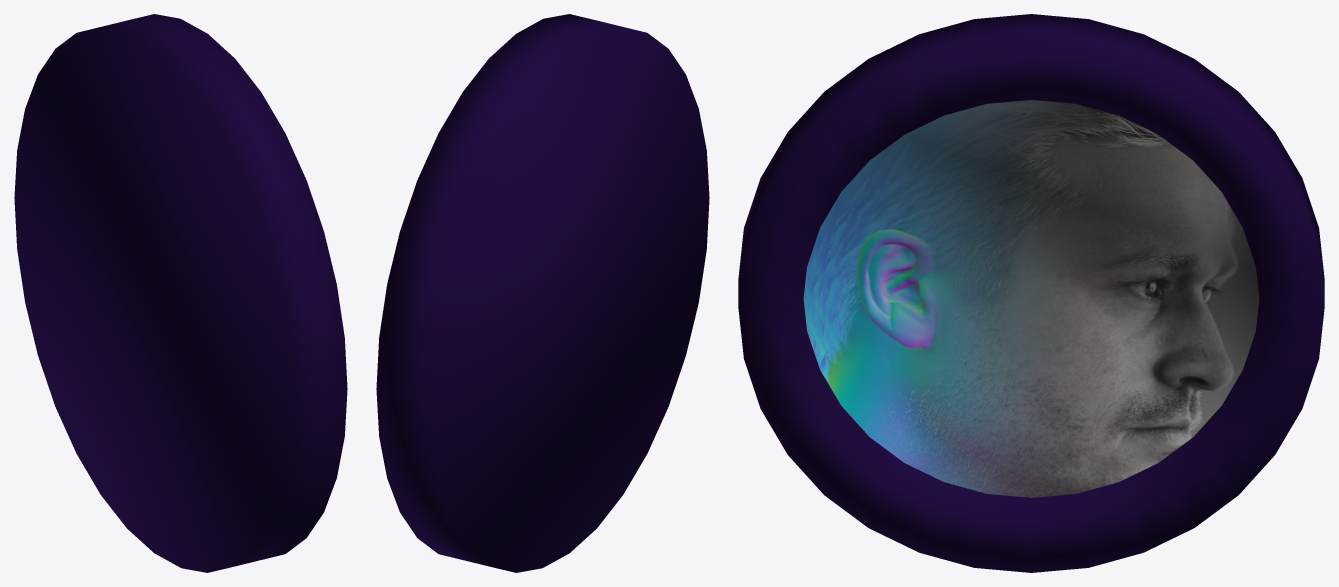
3 views of the same model, side by side, from view 1: azimuth 30°, elevation 25°; view 2: azimuth 150°, elevation 25°; view 3: azimuth 270°, elevation 25° (orthographic). The views are drawn at different scales.
Visible parts, largest first — view 1: Circle; view 2: Circle; view 3: Circle.
Boxes of the visible parts, x1,y1,x2,y2 form: Circle: (14,14,347,572); Circle: (376,14,709,572); Circle: (738,14,1324,572).
Bounding box in the file's own units: 0.2224 × 2 × 2.
2 materials, 1 textured.
